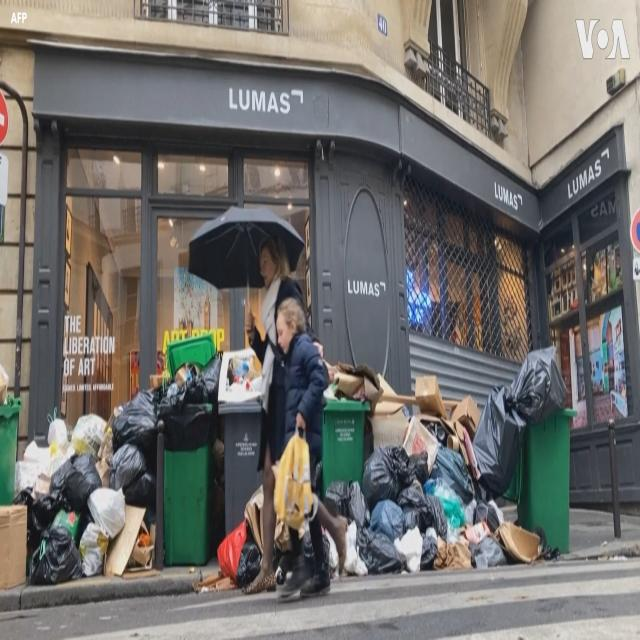high trash: (325, 347, 566, 573), (0, 354, 222, 588)
